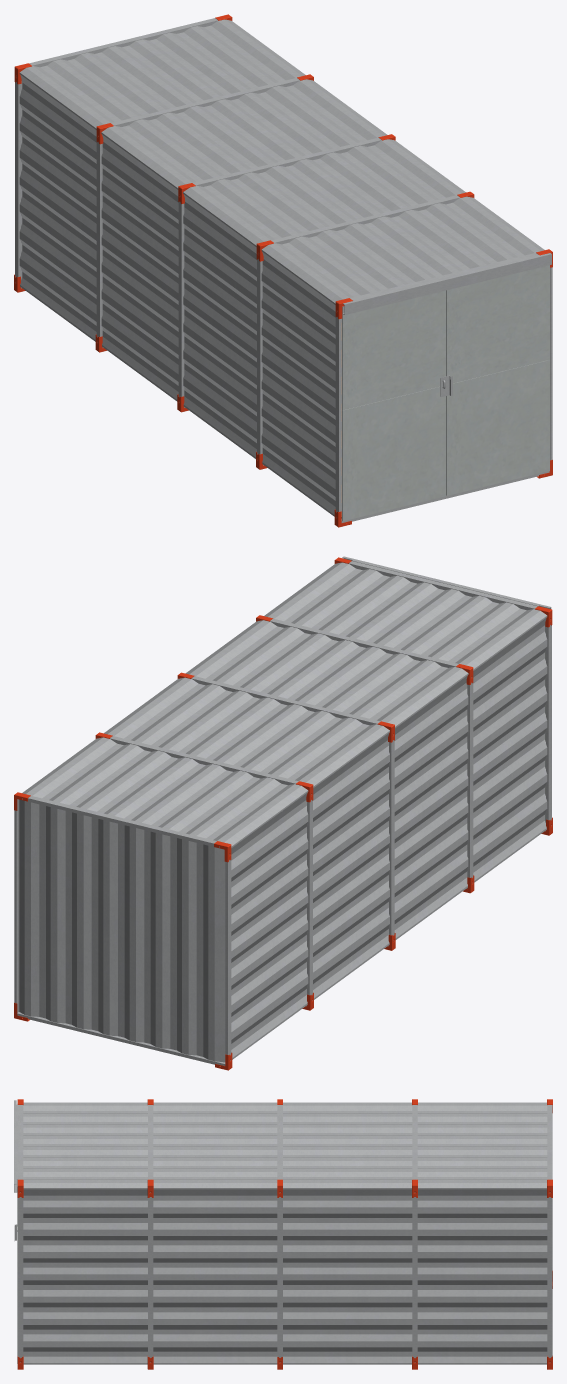
Rendered from 12M_closed.glb.
3 views of the same model, one above another, from view 1: azimuth 30°, elevation 25°; view 2: azimuth 150°, elevation 25°; view 3: azimuth 270°, elevation 25° (orthographic). The views are drawn at different scales.
Visible parts, largest first — view 1: leftWall, ceiling, leftSideDoorWing.001, rightSideDoorWing.001, frontRim, gutter, middleBackRim.001, middleRim, middleFrontRim, backRim; view 2: leftWall, ceiling, backWall, backRim, middleFrontRim, middleBackRim.001, middleRim, frontRim, gutter; view 3: rightWall, ceiling, middleFrontRim, middleBackRim.001, backRim, middleRim, frontRim, gutter.
Part boxes in pixels (x1,y1,x2,y2): leftWall: (19, 75, 341, 516); ceiling: (19, 19, 544, 304); leftSideDoorWing.001: (342, 290, 445, 521); rightSideDoorWing.001: (446, 265, 549, 495); frontRim: (335, 253, 552, 522); gutter: (342, 253, 551, 314); middleBackRim.001: (95, 74, 313, 352); middleRim: (177, 134, 395, 412); middleFrontRim: (256, 191, 474, 469); backRim: (14, 14, 232, 292); leftWall: (231, 618, 547, 1059); ceiling: (22, 562, 547, 847); backWall: (18, 799, 225, 1062); backRim: (14, 792, 232, 1070); middleFrontRim: (256, 615, 474, 893); middleBackRim.001: (95, 732, 313, 1010); middleRim: (177, 672, 395, 950); frontRim: (348, 561, 551, 831); gutter: (342, 556, 551, 608); rightWall: (23, 1189, 547, 1364); ceiling: (23, 1102, 547, 1189); middleFrontRim: (147, 1099, 153, 1369); middleBackRim.001: (412, 1099, 417, 1369); backRim: (547, 1099, 552, 1369); middleRim: (277, 1099, 282, 1369); frontRim: (18, 1105, 23, 1362); gutter: (14, 1100, 17, 1192).
Size of the model in its own units: 23.18 by 23.06 by 61.01.
Materials: 6 (5 with a texture image).
